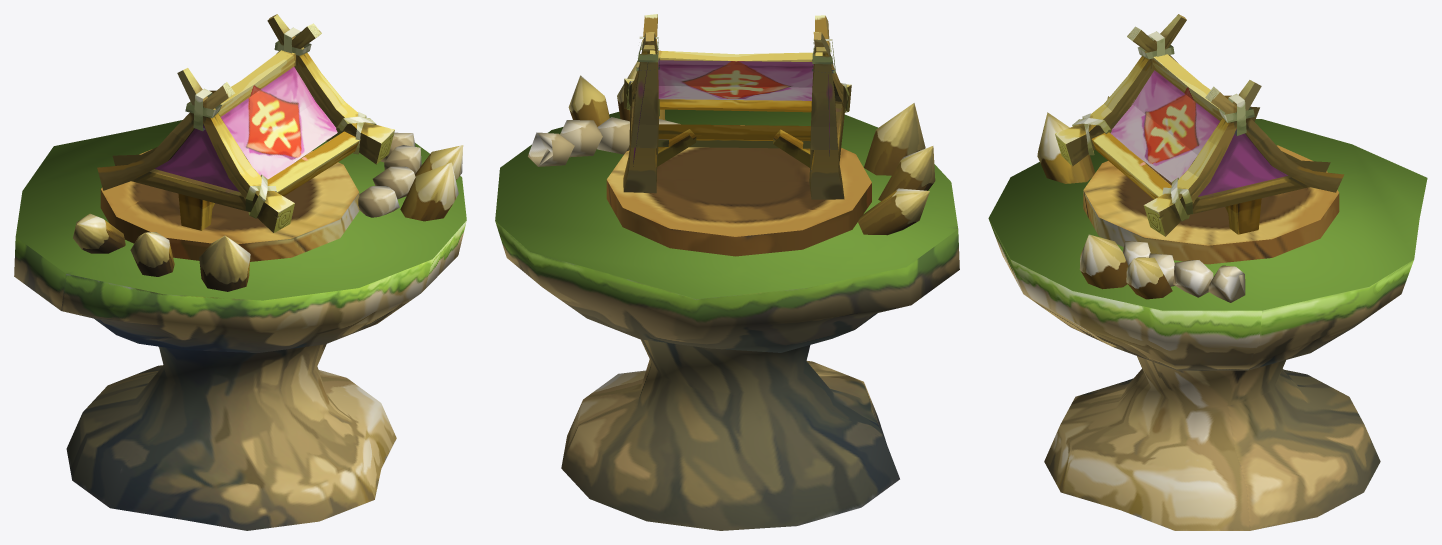
Rendered from liangcang.FBX.
The picture shows the model from 3 angles, left to right: view 1: azimuth 30°, elevation 25°; view 2: azimuth 150°, elevation 25°; view 3: azimuth 270°, elevation 25°; orthographic projection. The views are drawn at different scales.
Parts seen in each view (by area): view 1: Object01; view 2: Object01; view 3: Object01.
Boxes of the visible parts, box(x1,y1,x2,y2) form: Object01: box(14, 14, 466, 530); Object01: box(495, 14, 959, 530); Object01: box(988, 14, 1427, 530).
Size of the model in its own units: 128 by 128 by 123.
1 material, 1 textured.
